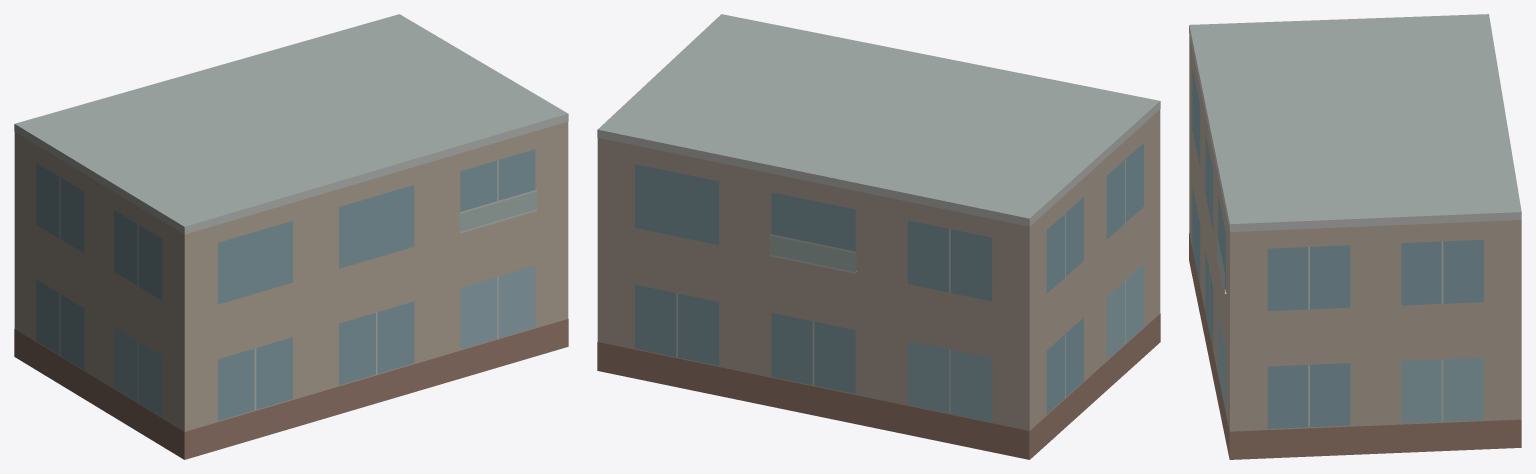
File: survey-upis-32625756.glb
3 renders of one model, left to right at view 1: azimuth 30°, elevation 25°; view 2: azimuth 150°, elevation 25°; view 3: azimuth 270°, elevation 25°, orthographic. The views are drawn at different scales.
Visible parts, largest first — view 1: survey-upis-32625756.tmp; view 2: survey-upis-32625756.tmp; view 3: survey-upis-32625756.tmp.
Part boxes in pixels (box(x1,y1,x2,y2)): survey-upis-32625756.tmp: box(14, 14, 568, 459); survey-upis-32625756.tmp: box(597, 14, 1160, 459); survey-upis-32625756.tmp: box(1189, 14, 1521, 459).
Size of the model in its own units: 13.97 by 7.3 by 9.35.
